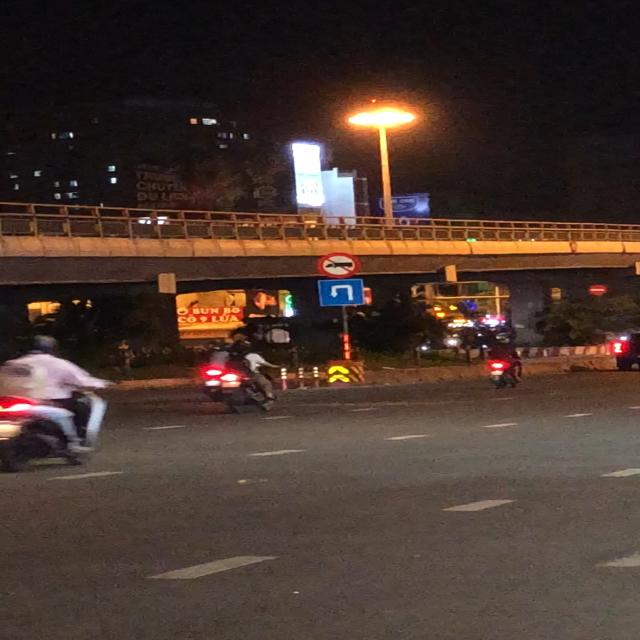Bien bao cam xe so-mi ro-mooc: (315, 251, 363, 279)
